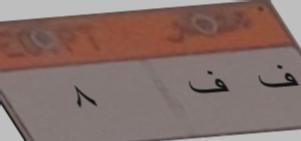8: (68, 80, 102, 114)
faa: (256, 60, 300, 95), (188, 65, 233, 99)
